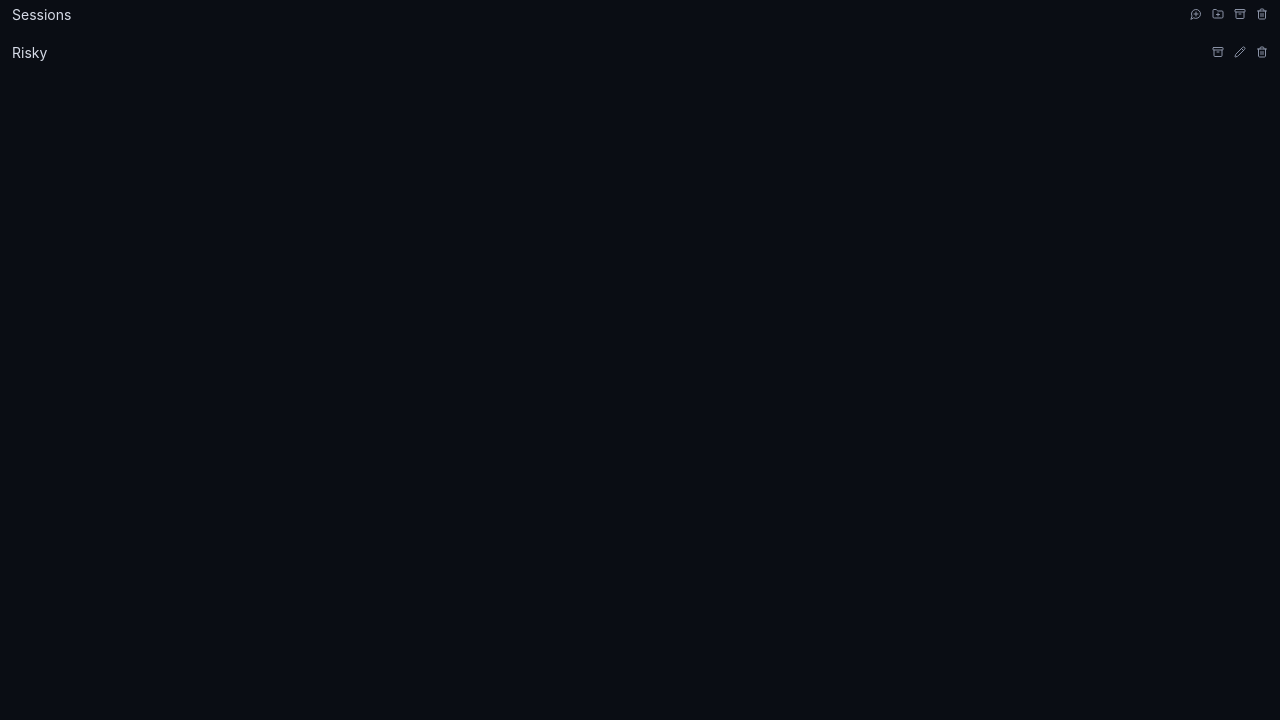
Test: <FolderTree> › offers Archive instead and labels permanent deletion as irreversible
The image size is (1280, 720).
Click the button named "Delete Risky" at coordinates (1262, 52), box [1252, 40, 1272, 65]
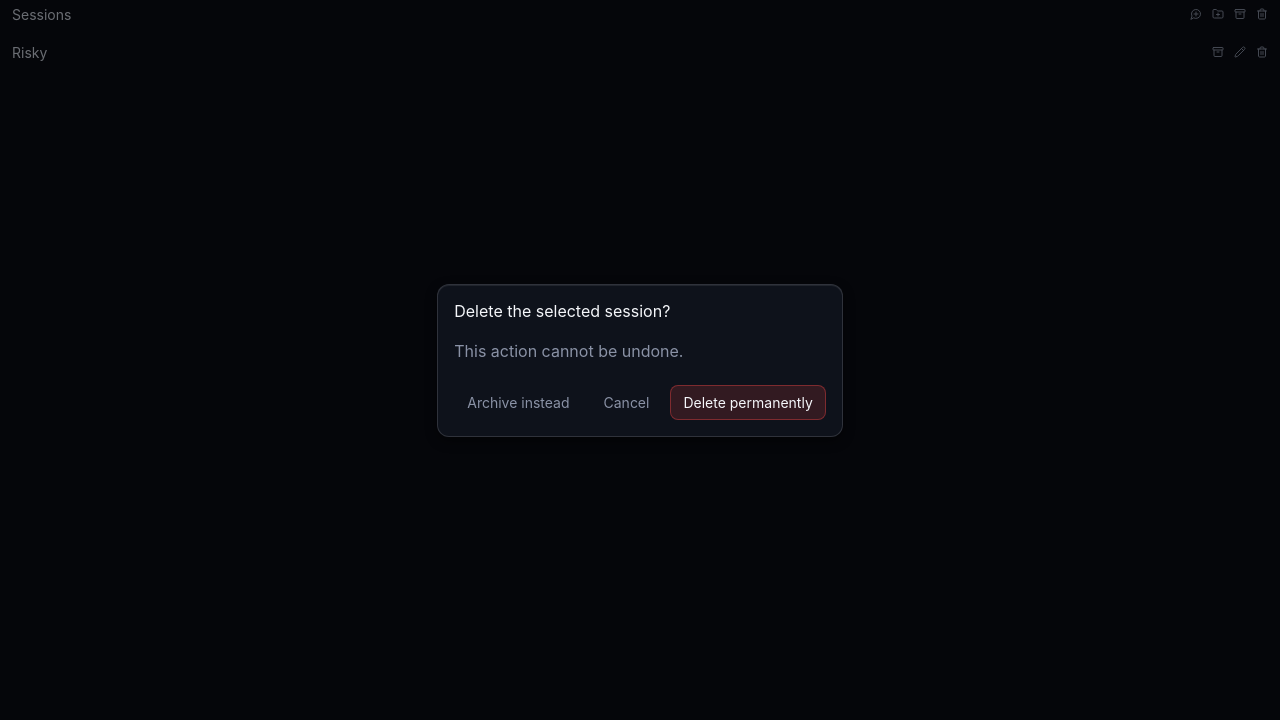
Check: the dialog with test id "folder-tree-confirm-delete" shows "cannot be undone", box [454, 340, 683, 360]
Check: the text with test id "folder-tree-confirm-delete-question" reads "Delete the selected session?", box [454, 300, 670, 320]
Check: the button with test id "confirm-delete-archive-instead" is shown, box [454, 384, 582, 420]
